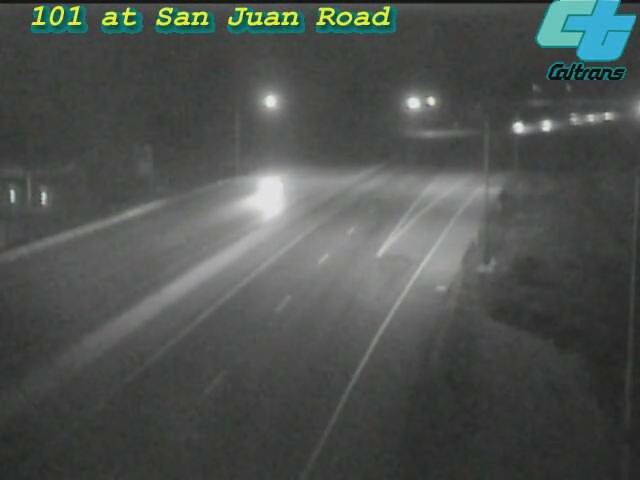vehicle: (231, 151, 311, 231), (585, 91, 635, 141), (567, 93, 617, 143), (549, 94, 599, 144), (523, 99, 573, 149), (498, 102, 548, 152)
